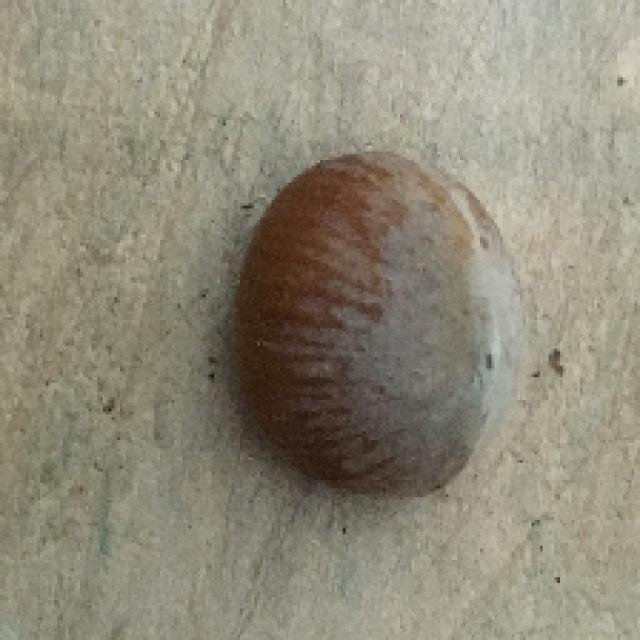QualityHazelnut: (231, 147, 531, 503)
